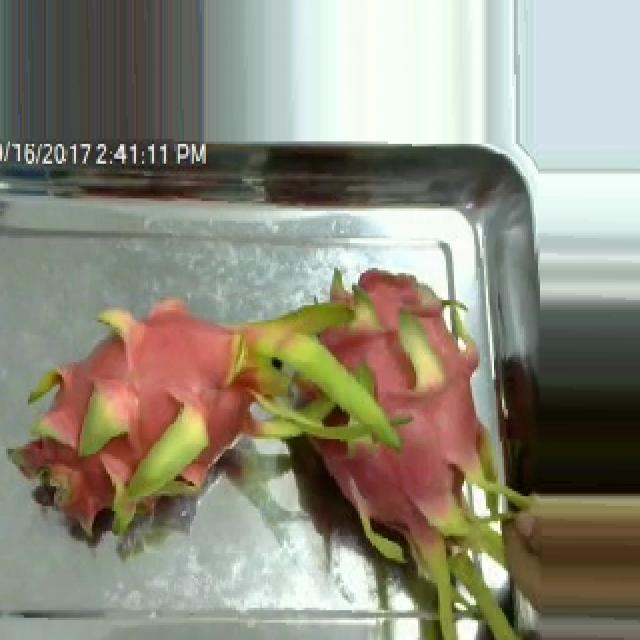Fruit: (496, 469, 640, 637)
